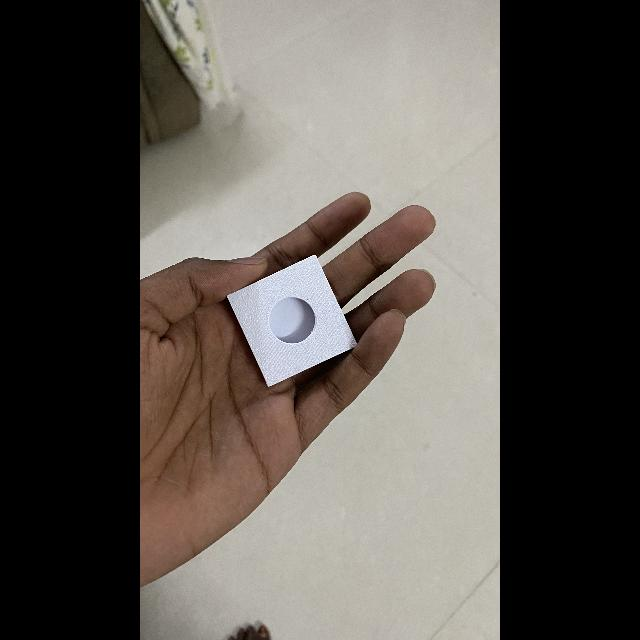RASPBERY PI CAM ENCLOSURE: (229, 256, 356, 386)
